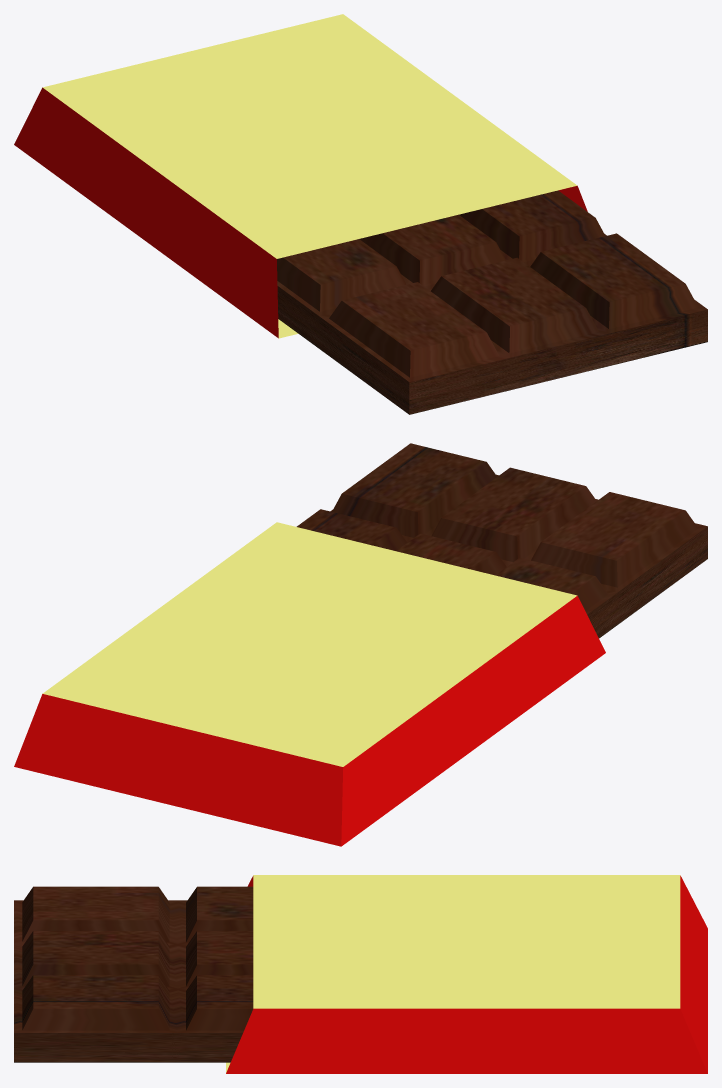
File: chocolate.fbx
3 views of the same model, one above another, from view 1: azimuth 30°, elevation 25°; view 2: azimuth 150°, elevation 25°; view 3: azimuth 270°, elevation 25° (orthographic). The views are drawn at different scales.
Visible parts, largest first — view 1: chocolatemordido_pCube2, pCube1; view 2: chocolatemordido_pCube2, pCube1; view 3: chocolatemordido_pCube2, pCube1.
Part boxes in pixels (x1=…): chocolatemordido_pCube2: x1=14, y1=14, x2=587, y2=338; pCube1: x1=277, y1=190, x2=707, y2=414; chocolatemordido_pCube2: x1=14, y1=522, x2=605, y2=846; pCube1: x1=296, y1=443, x2=707, y2=638; chocolatemordido_pCube2: x1=226, y1=875, x2=707, y2=1073; pCube1: x1=14, y1=886, x2=253, y2=1062.
Bounding box in the file's own units: 4.2 × 0.7997 × 8.47.
